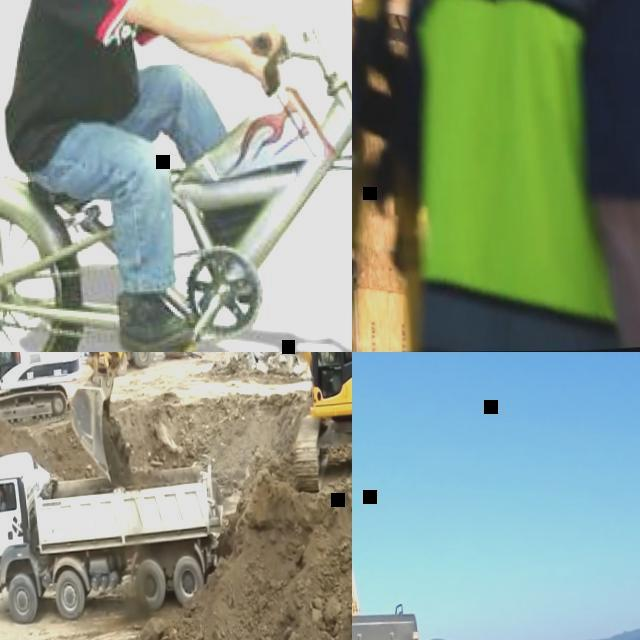machinery: (56, 352, 352, 509), (0, 439, 229, 626), (352, 492, 460, 640), (84, 352, 184, 372)
no_helmet: (0, 487, 3, 491)
no_vest: (0, 0, 169, 167), (333, 352, 340, 363), (8, 352, 13, 365), (0, 498, 5, 507)
person: (0, 0, 304, 352), (377, 0, 640, 352), (317, 352, 343, 396), (0, 352, 13, 377), (0, 488, 7, 511)
vest: (385, 0, 640, 352)
